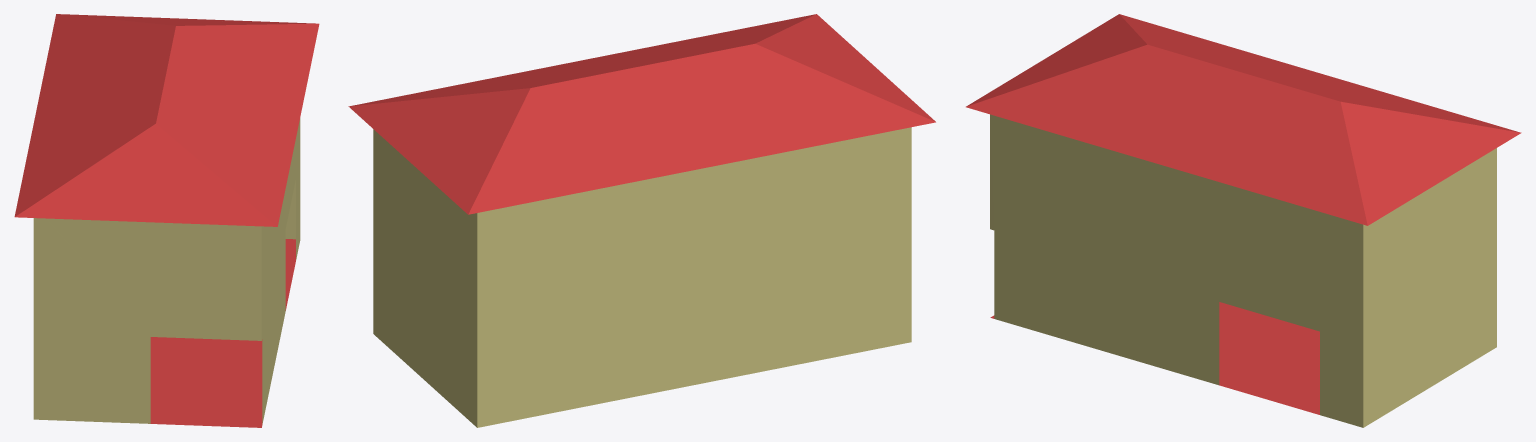
The picture shows the model from 3 angles, left to right: view 1: azimuth 30°, elevation 25°; view 2: azimuth 150°, elevation 25°; view 3: azimuth 270°, elevation 25°; orthographic projection. The views are drawn at different scales.
Visible parts, largest first — view 1: group_3, group_5, group_6, group_4; view 2: group_5, group_3, group_4; view 3: group_5, group_3, group_6, group_4.
Part boxes in pixels (<box>): group_3: <box>14,14,313,226</box>; group_5: <box>33,118,300,424</box>; group_6: <box>150,239,295,427</box>; group_4: <box>60,14,319,224</box>; group_5: <box>373,127,911,427</box>; group_3: <box>374,14,935,214</box>; group_4: <box>348,16,802,213</box>; group_5: <box>990,114,1496,427</box>; group_3: <box>966,14,1521,225</box>; group_6: <box>990,302,1319,414</box>; group_4: <box>969,108,1520,225</box>.
Size of the model in its own units: 28.06 by 31.13 by 15.99.
